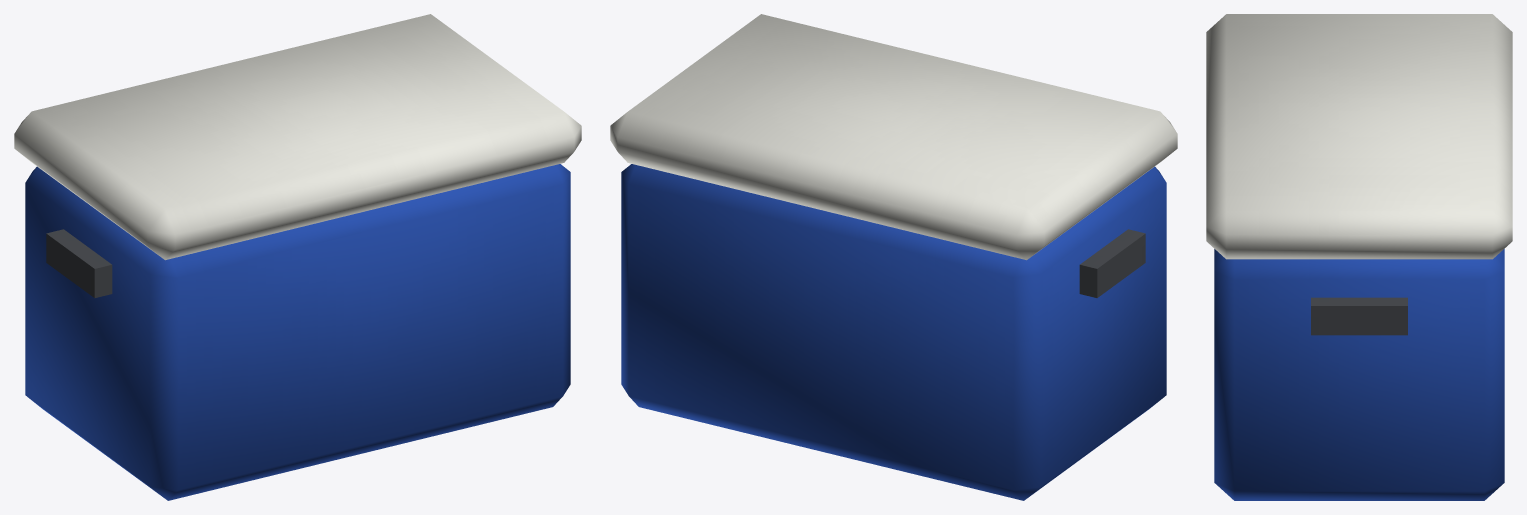
Rendered from caixa_termica.glb.
3 views of the same model, side by side, from view 1: azimuth 30°, elevation 25°; view 2: azimuth 150°, elevation 25°; view 3: azimuth 270°, elevation 25° (orthographic).
Visible parts, largest first — view 1: Inteiro; view 2: Inteiro; view 3: Inteiro.
Boxes of the visible parts, x1,y1,x2,y2 form: Inteiro: (14,14,581,500); Inteiro: (610,14,1177,500); Inteiro: (1206,14,1512,500).
Size of the model in its own units: 0.65 by 0.405 by 0.38.
1 material, 1 textured.
